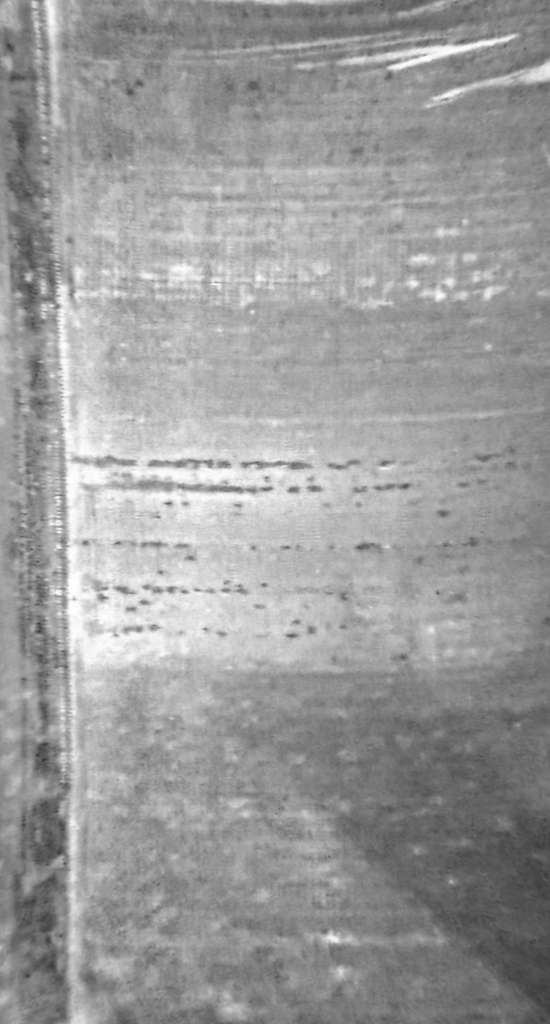splice: (1, 2, 70, 1024)
